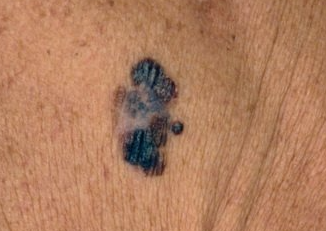Melanoma: (112, 58, 183, 178)
